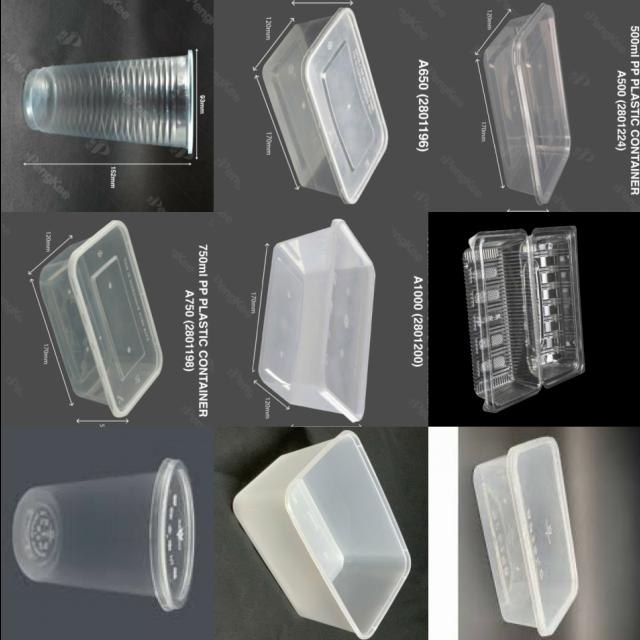plastik: (232, 430, 409, 639), (12, 458, 194, 611), (261, 7, 387, 204), (39, 220, 162, 417), (257, 219, 374, 422), (462, 226, 583, 412), (472, 436, 578, 636), (23, 50, 193, 153), (482, 4, 569, 205)
